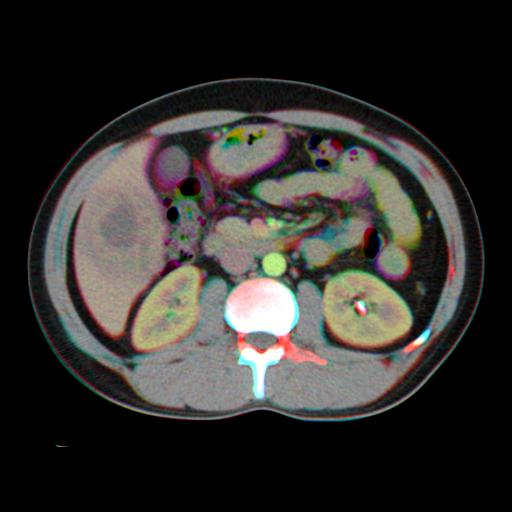Abscess: (100, 204, 139, 248)
